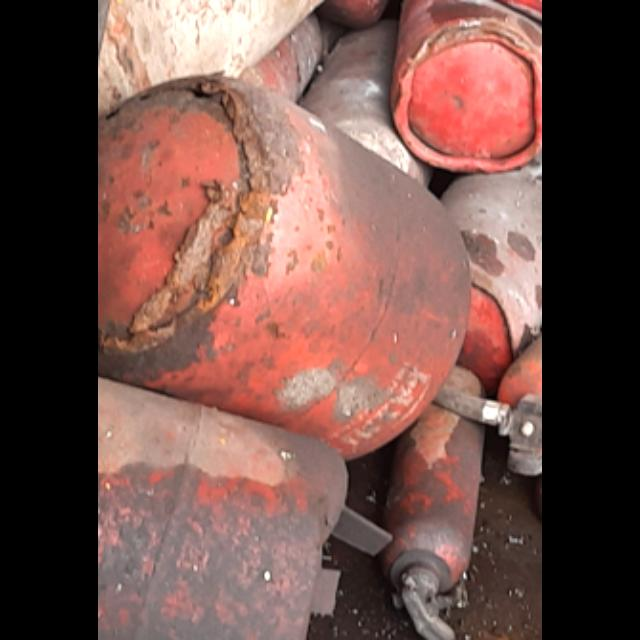Cylinders: (98, 77, 463, 464), (394, 2, 541, 176)
